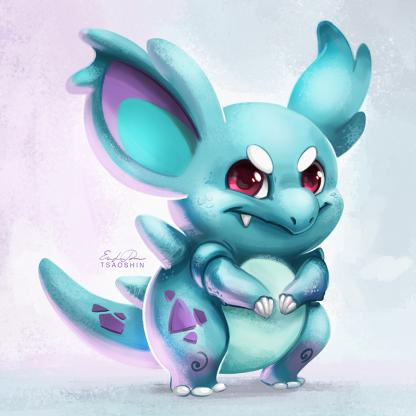Nidorina: (22, 21, 410, 407)
